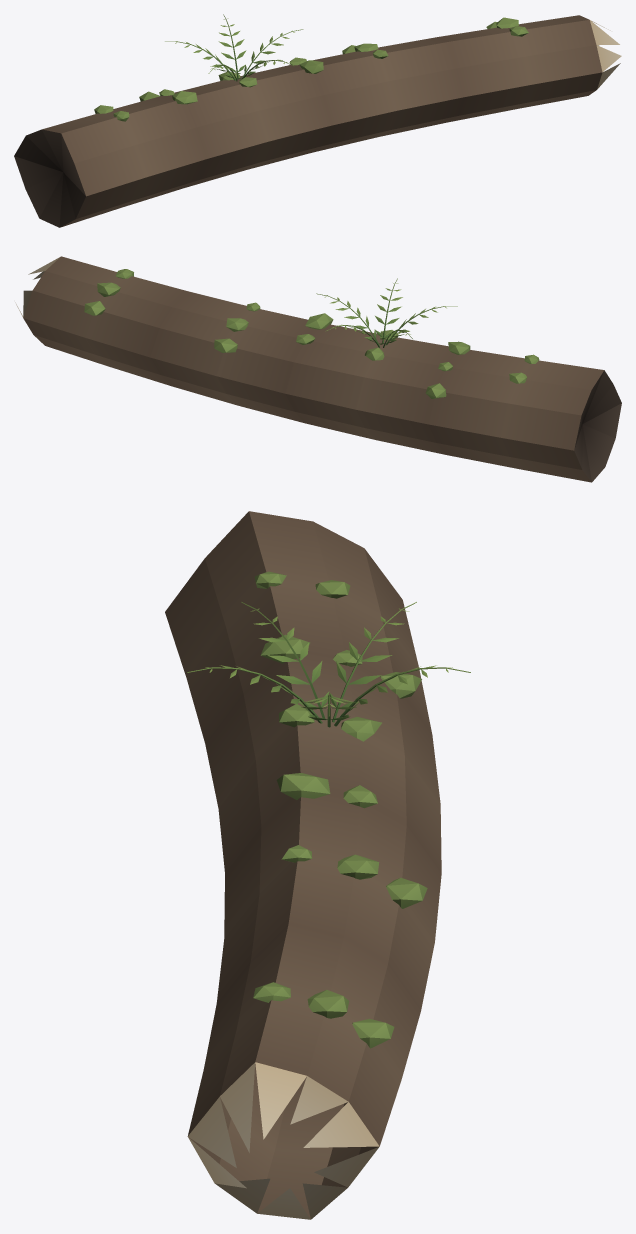
Rendered from fallen_log_a.glb.
3 views of the same model, one above another, from view 1: azimuth 30°, elevation 25°; view 2: azimuth 150°, elevation 25°; view 3: azimuth 270°, elevation 25° (orthographic). The views are drawn at different scales.
Parts seen in each view (by area): view 1: fallen_log_a; view 2: fallen_log_a; view 3: fallen_log_a.
Boxes of the visible parts, bbox=[...] form: fallen_log_a: bbox=[14, 14, 621, 227]; fallen_log_a: bbox=[15, 256, 621, 482]; fallen_log_a: bbox=[165, 511, 470, 1219].
Bounding box in the file's own units: 3.19 × 0.6558 × 0.741.
